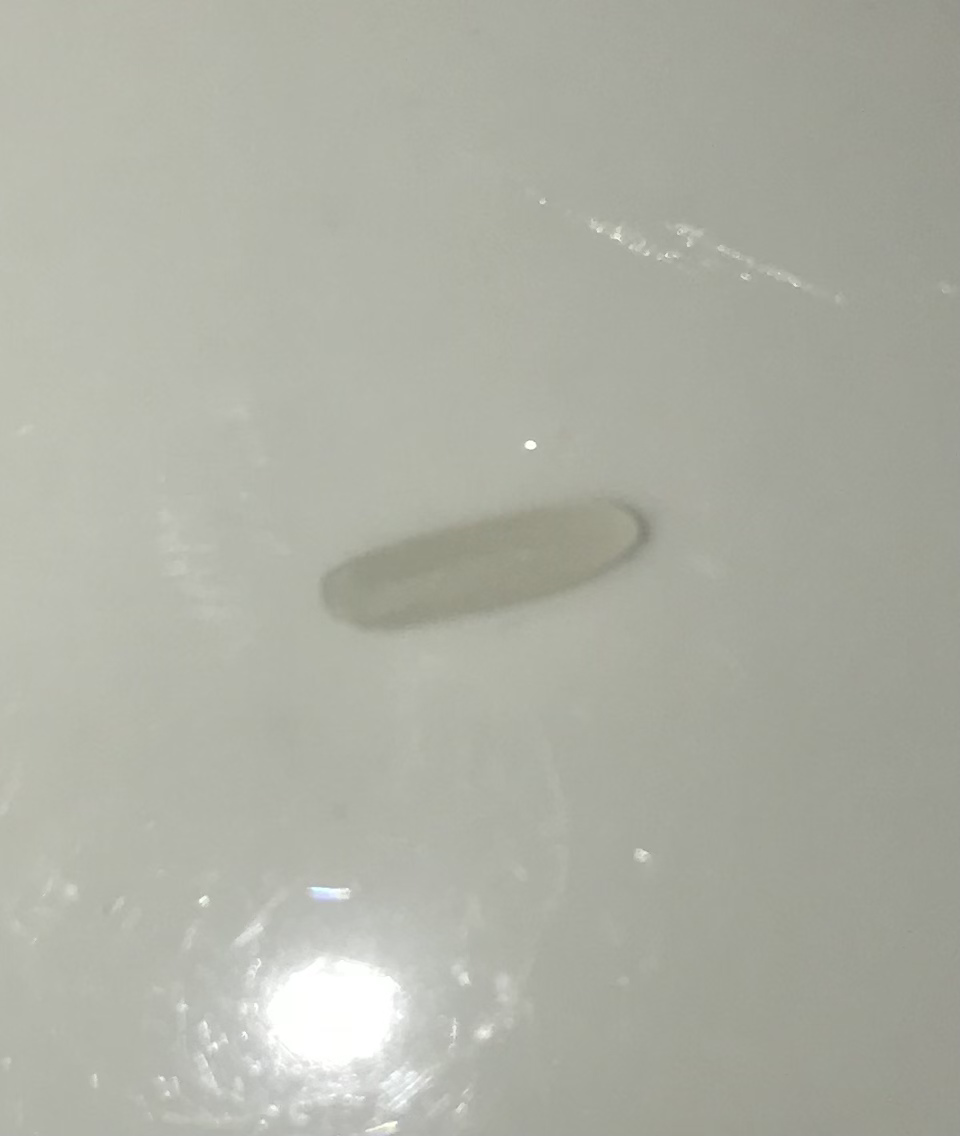Gao Thom Go Cong: (319, 491, 663, 659)
